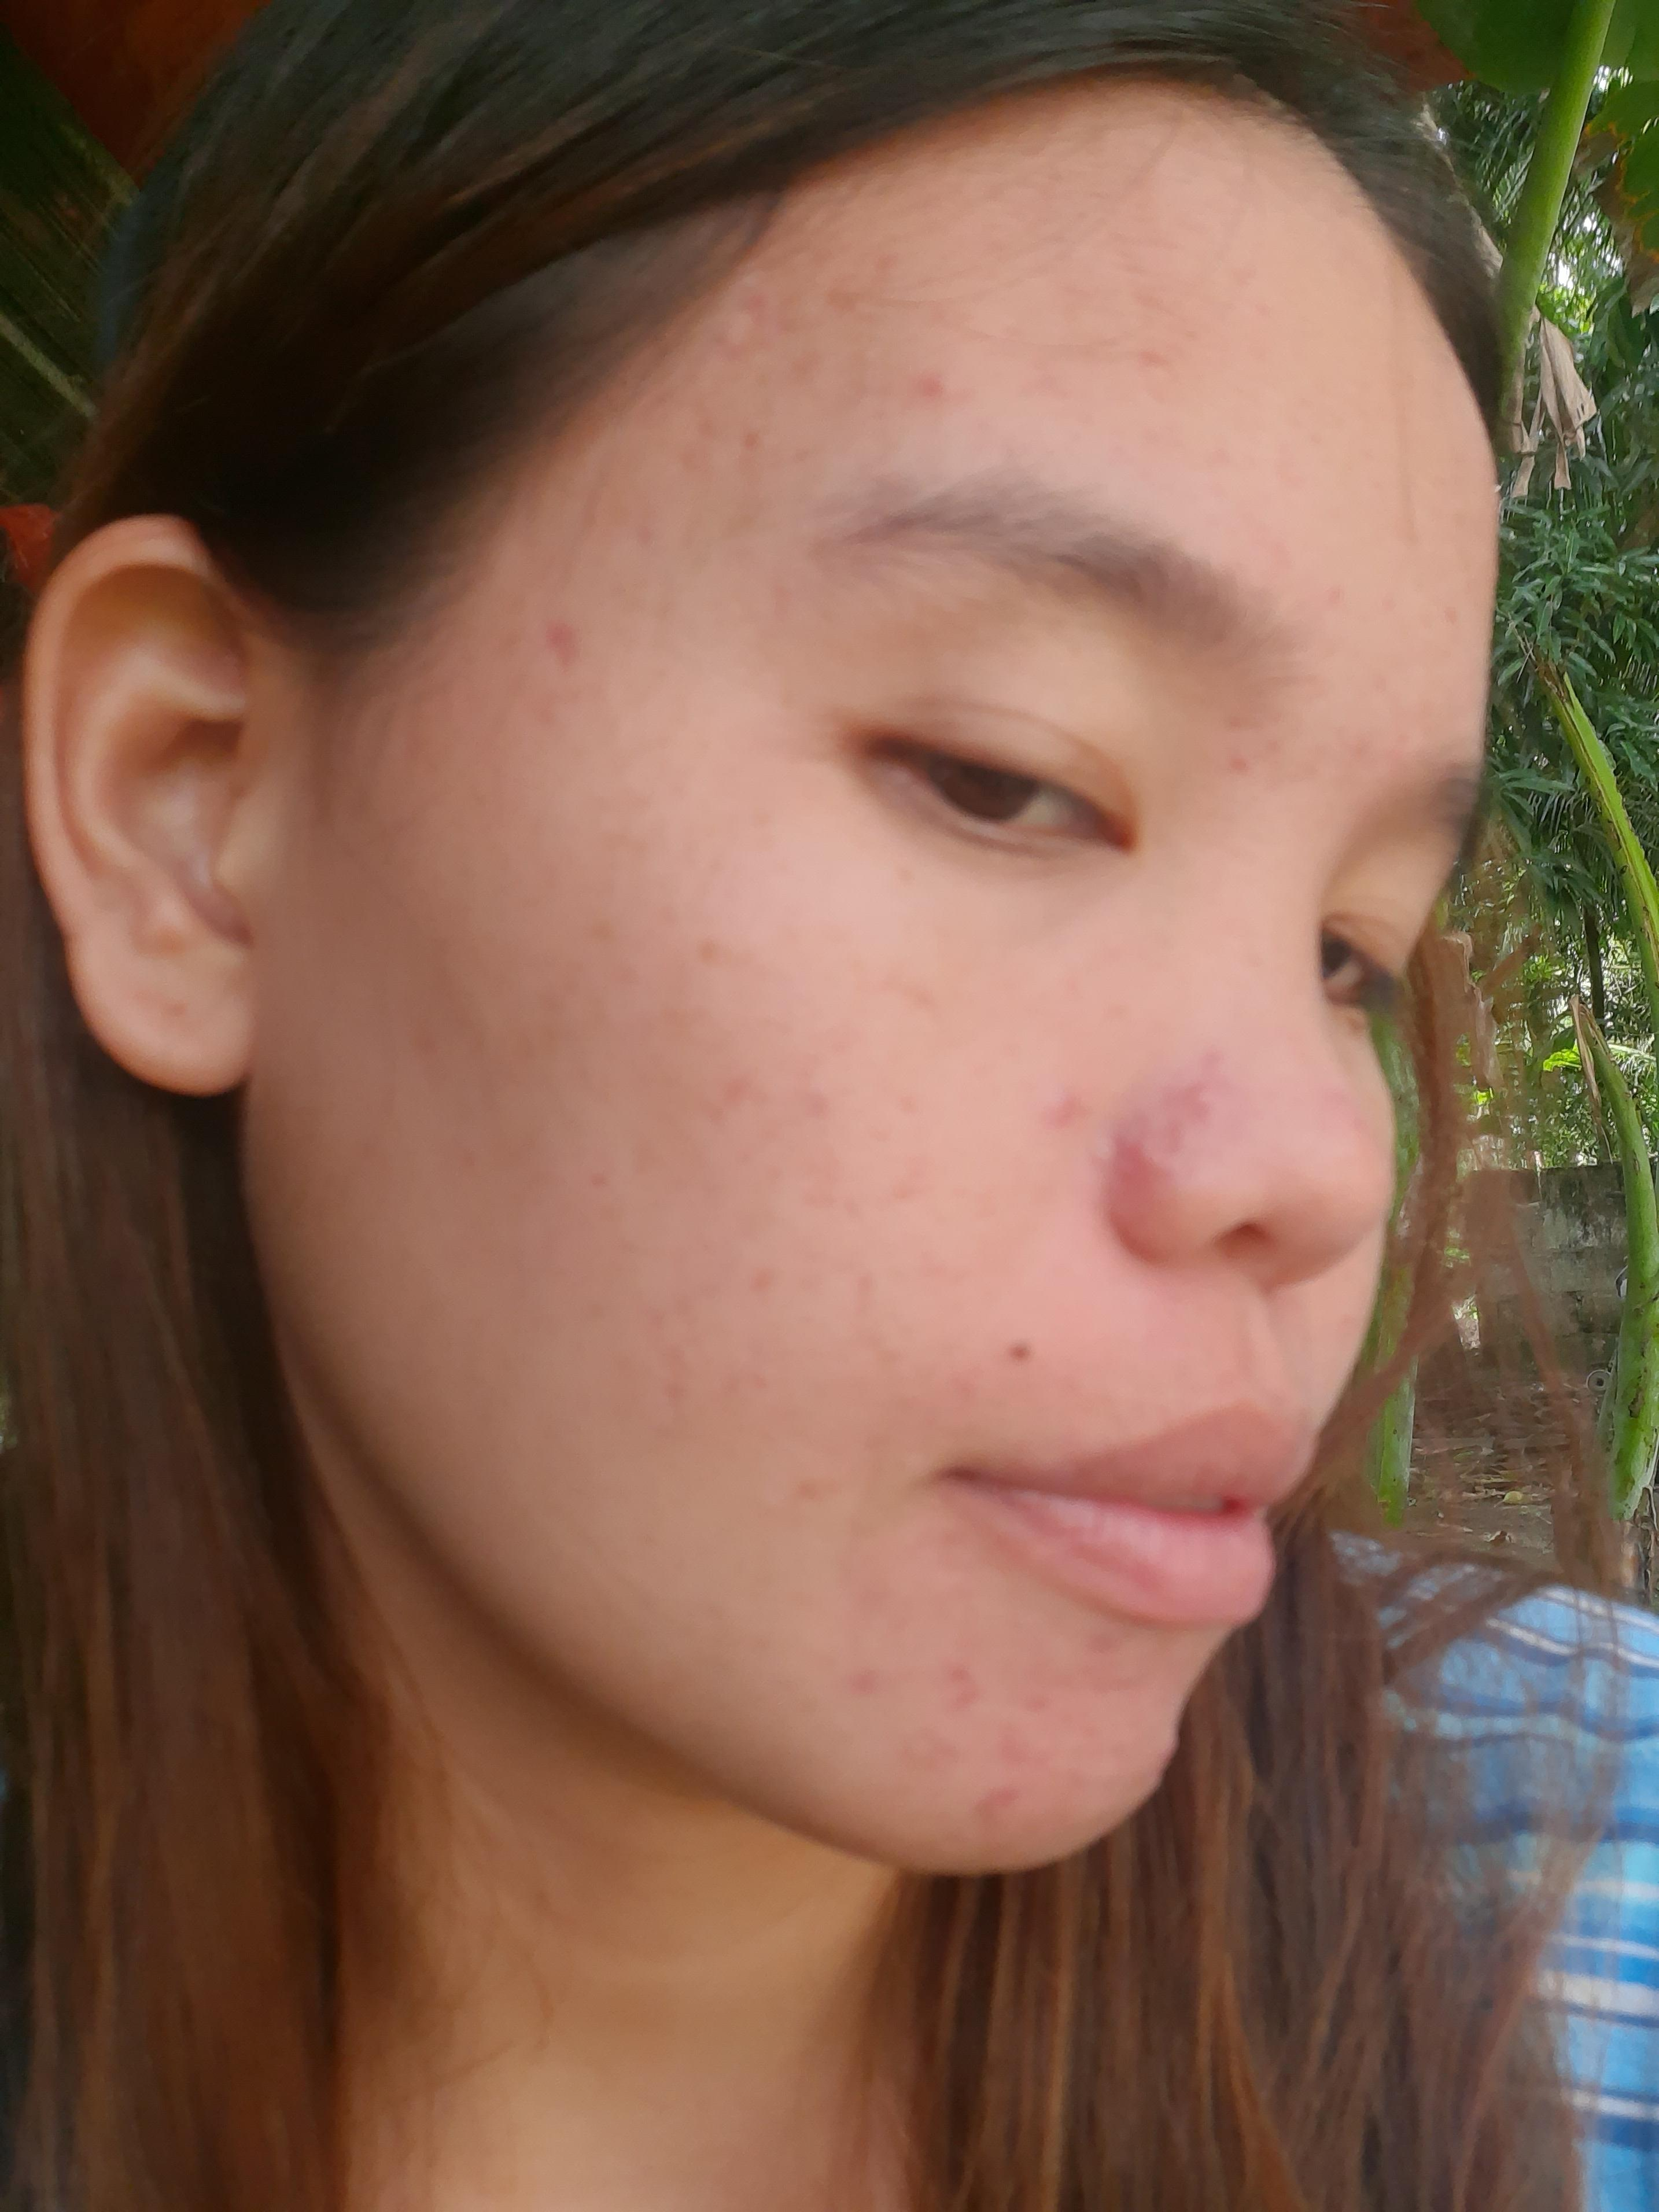Acne: (1101, 1029, 1227, 1195), (969, 1686, 1054, 1825), (711, 272, 882, 327), (659, 399, 777, 475), (521, 601, 598, 688), (1316, 1071, 1377, 1153), (878, 1139, 934, 1211), (1021, 1076, 1082, 1136), (897, 1724, 951, 1780), (701, 1066, 762, 1113), (901, 366, 958, 411), (938, 1658, 985, 1712), (838, 1656, 880, 1705), (1220, 735, 1258, 787), (788, 1467, 824, 1517), (1073, 1623, 1122, 1658), (1136, 333, 1169, 383), (657, 1376, 692, 1414), (749, 1261, 782, 1299), (1432, 599, 1464, 634), (1319, 580, 1349, 617), (798, 1089, 828, 1123), (896, 1078, 925, 1113), (854, 1264, 878, 1305), (1262, 540, 1293, 568), (584, 1169, 605, 1195), (647, 1305, 666, 1331), (1378, 592, 1399, 615)
